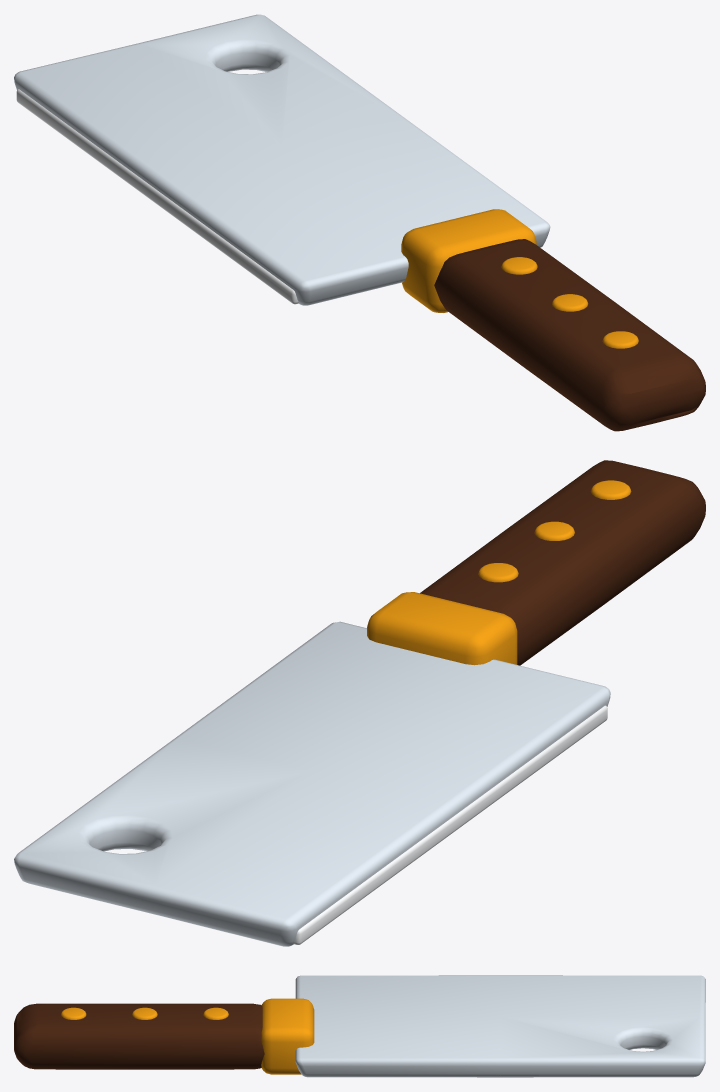
Rendered from knife.gltf.
The picture shows the model from 3 angles, top to bottom: view 1: azimuth 30°, elevation 25°; view 2: azimuth 150°, elevation 25°; view 3: azimuth 270°, elevation 25°; orthographic projection. The views are drawn at different scales.
Parts seen in each view (by area): view 1: CleaverBlade; view 2: CleaverBlade; view 3: CleaverBlade.
Part boxes in pixels (x1,y1,x2,y2): CleaverBlade: [14, 14, 705, 431]; CleaverBlade: [14, 460, 705, 946]; CleaverBlade: [14, 975, 705, 1077].
Bounding box in the file's own units: 0.1449 × 0.038 × 0.4861.
